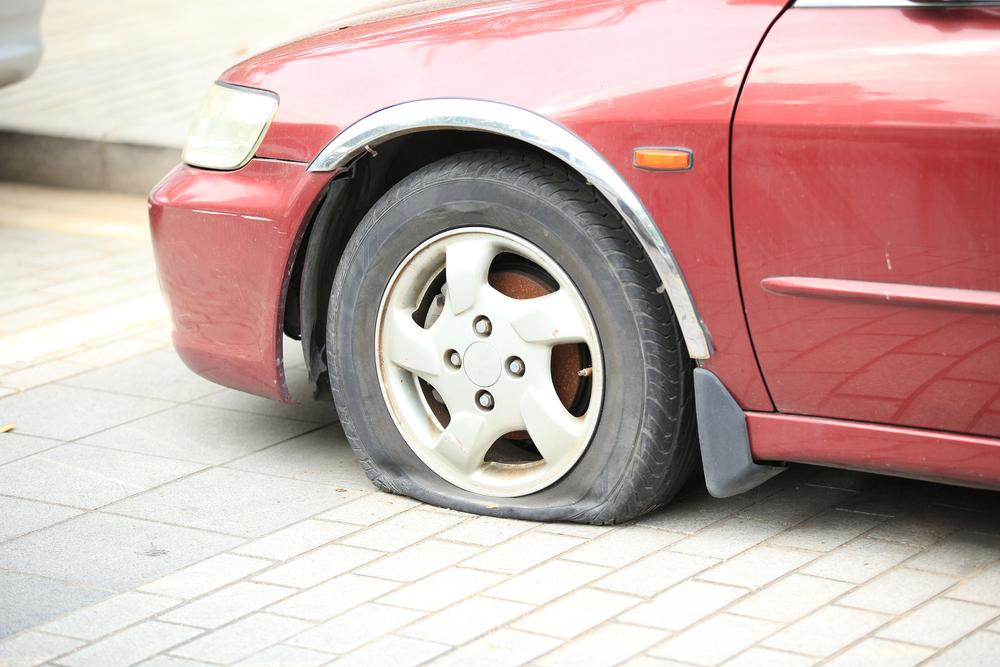scratch: (190, 208, 276, 224)
tire flat: (326, 144, 696, 525)
